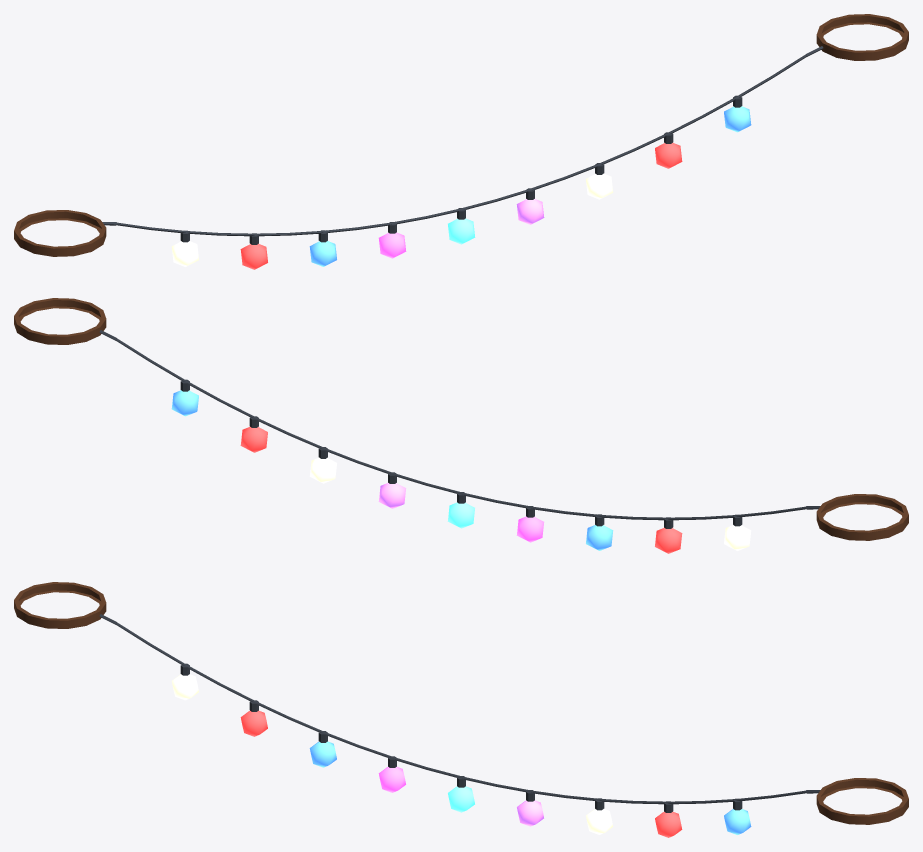
Rendered from varal_lampadas_6m.glb.
The picture shows the model from 3 angles, top to bottom: view 1: azimuth 30°, elevation 25°; view 2: azimuth 150°, elevation 25°; view 3: azimuth 330°, elevation 25°; orthographic projection.
Parts seen in each view (by area): view 1: varal_lampadas_6m, lampadas_a, lampadas_b; view 2: varal_lampadas_6m, lampadas_a, lampadas_b; view 3: varal_lampadas_6m, lampadas_a, lampadas_b.
Part boxes in pixels (left/top/right/bottom): varal_lampadas_6m: left=14, top=14, right=908, bottom=256; lampadas_a: left=171, top=95, right=751, bottom=266; lampadas_b: left=240, top=132, right=682, bottom=269; varal_lampadas_6m: left=14, top=298, right=908, bottom=540; lampadas_a: left=171, top=379, right=751, bottom=550; lampadas_b: left=240, top=416, right=682, bottom=553; varal_lampadas_6m: left=14, top=582, right=908, bottom=824; lampadas_a: left=171, top=663, right=751, bottom=834; lampadas_b: left=240, top=700, right=682, bottom=837.
Size of the model in its own units: 6.6 by 0.81 by 0.585.
Materials: 7 (1 with a texture image).
